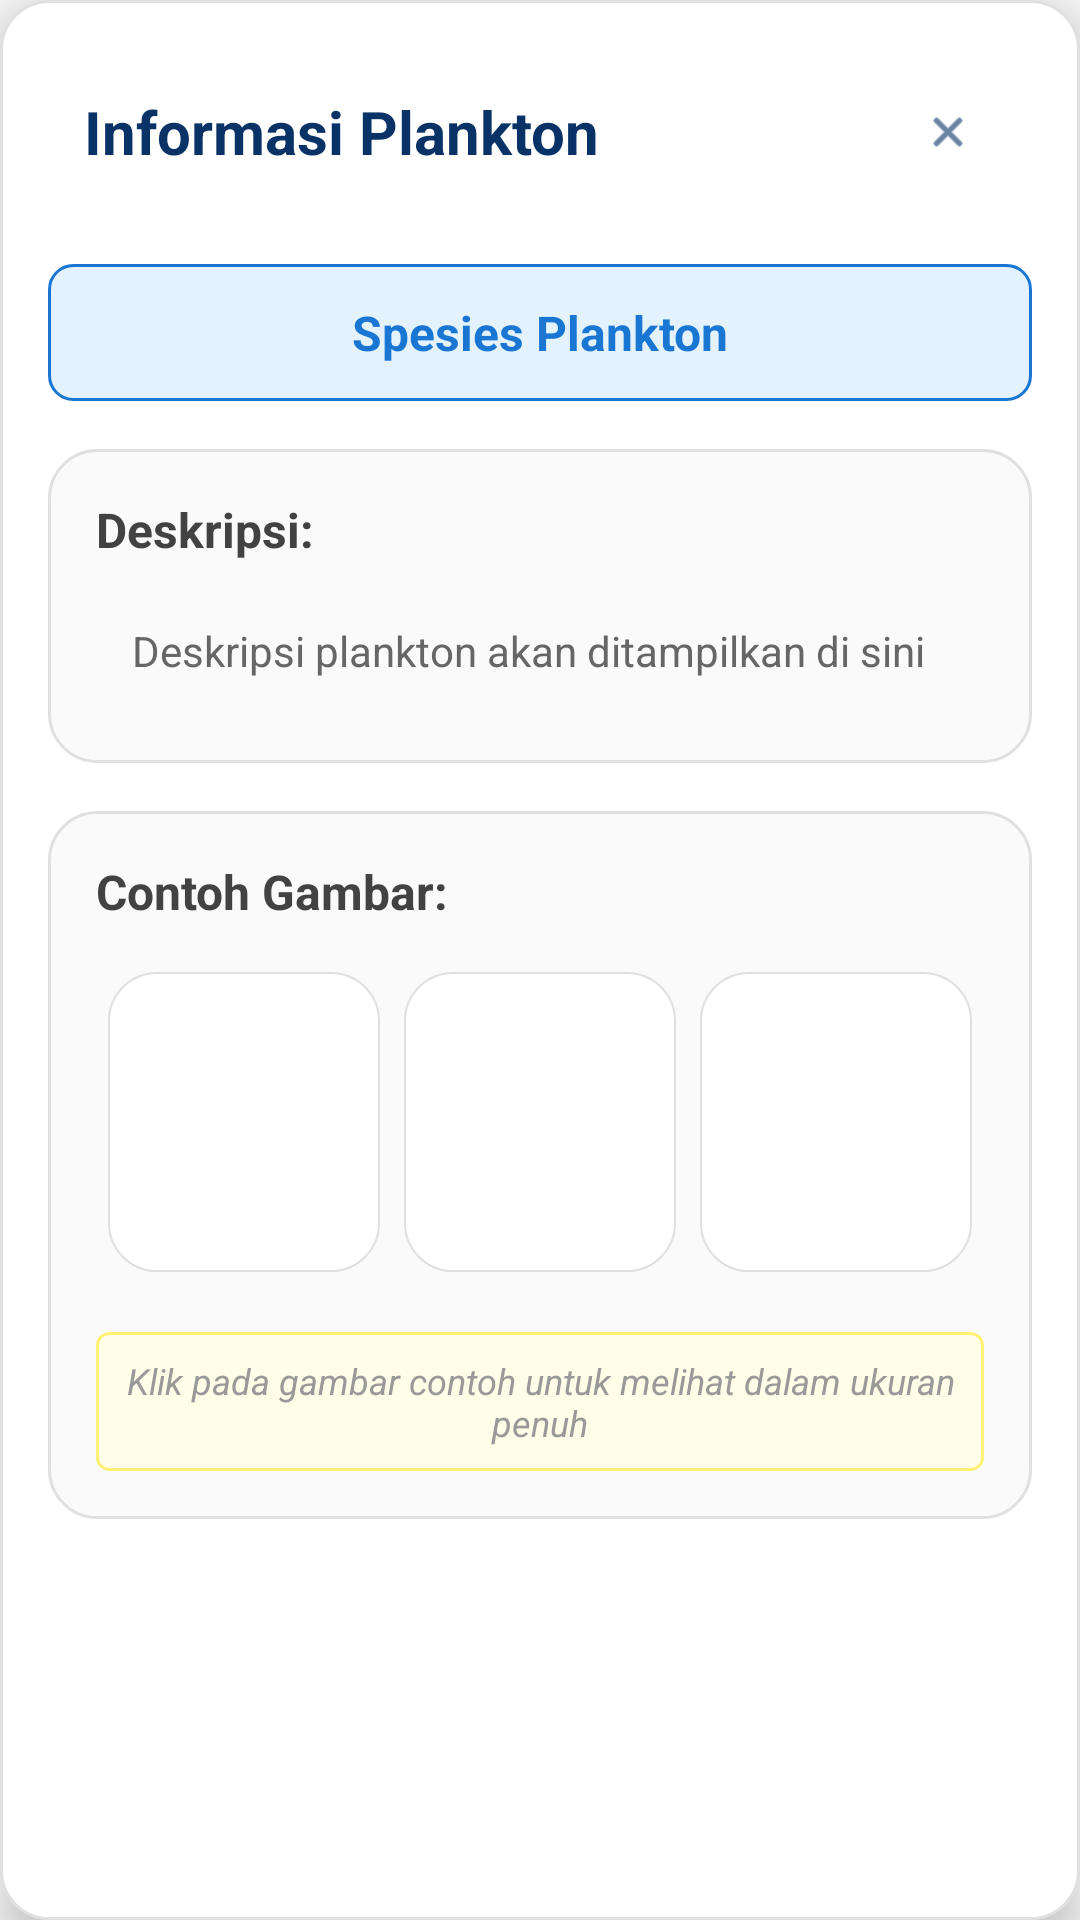

Icon bounding boxes for this 1080 x 1920 phone screenshot, format (x1, y1, x2, y2):
Tutup: (933, 117, 963, 147)
